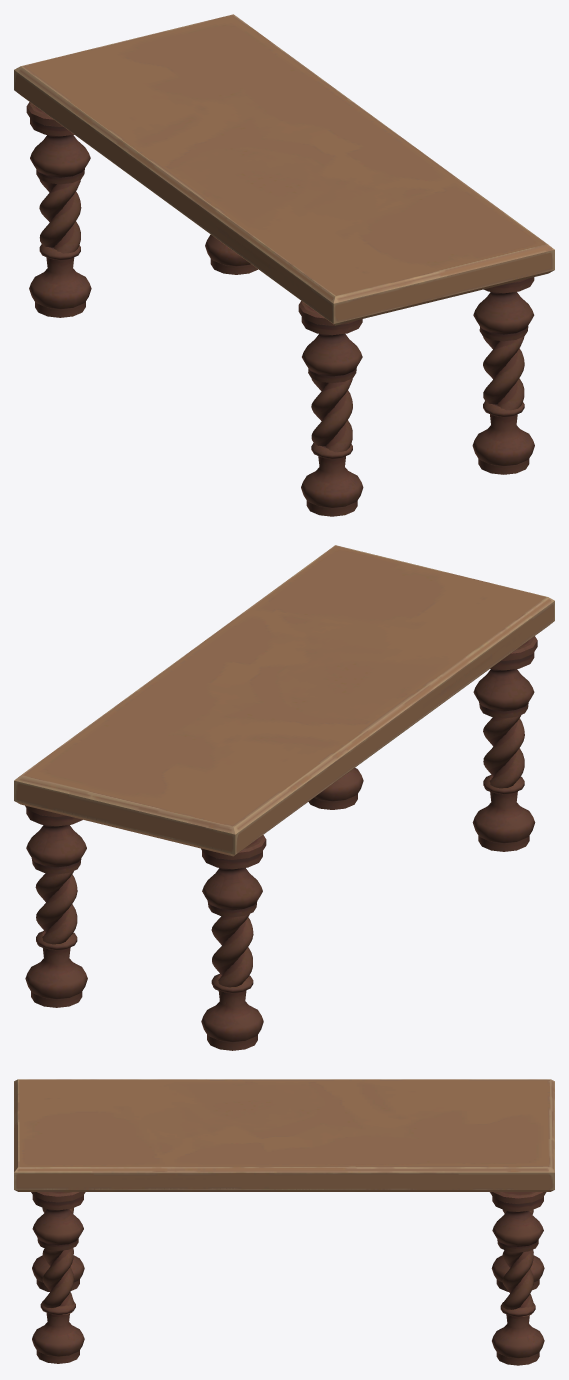
File: MiddleShelf.fbx
The picture shows the model from 3 angles, top to bottom: view 1: azimuth 30°, elevation 25°; view 2: azimuth 150°, elevation 25°; view 3: azimuth 270°, elevation 25°; orthographic projection. The views are drawn at different scales.
Parts seen in each view (by area): view 1: MiddleShelf, middleStickPart3, middleStickPart1 (1), middleStickPart1, middleStickPart1 (2), middleStickPart3.002, middleStickPart3.001, middleStickPart2.001, middleStickPart2, middleStickPart2.002, middleStickPart1 (3); view 2: MiddleShelf, middleStickPart3.002, middleStickPart1 (2), middleStickPart1 (3), middleStickPart1, middleStickPart3, middleStickPart3.003, middleStickPart2.003, middleStickPart2, middleStickPart2.002, middleStickPart1 (1); view 3: MiddleShelf, middleStickPart3.003, middleStickPart3.001, middleStickPart1 (1), middleStickPart1 (3), middleStickPart2.003, middleStickPart2.001, middleStickPart1, middleStickPart1 (2).
Boxes of the visible parts, <box> form: MiddleShelf: <box>14,14,554,325</box>; middleStickPart3: <box>298,301,362,383</box>; middleStickPart1 (1): <box>472,401,534,474</box>; middleStickPart1: <box>301,443,363,516</box>; middleStickPart1 (2): <box>29,244,91,317</box>; middleStickPart3.002: <box>26,102,90,184</box>; middleStickPart3.001: <box>473,277,534,341</box>; middleStickPart2.001: <box>483,336,524,410</box>; middleStickPart2: <box>311,378,352,452</box>; middleStickPart2.002: <box>39,179,81,253</box>; middleStickPart1 (3): <box>205,234,258,274</box>; MiddleShelf: <box>14,545,554,856</box>; middleStickPart3.002: <box>201,835,266,917</box>; middleStickPart1 (2): <box>201,974,263,1050</box>; middleStickPart1 (3): <box>25,931,87,1007</box>; middleStickPart1: <box>472,775,535,851</box>; middleStickPart3: <box>473,636,537,718</box>; middleStickPart3.003: <box>25,805,86,874</box>; middleStickPart2.003: <box>35,871,77,948</box>; middleStickPart2: <box>483,715,524,792</box>; middleStickPart2.002: <box>211,914,253,991</box>; middleStickPart1 (1): <box>308,768,363,809</box>; MiddleShelf: <box>14,1079,554,1191</box>; middleStickPart3.003: <box>490,1192,546,1252</box>; middleStickPart3.001: <box>31,1192,85,1250</box>; middleStickPart1 (1): <box>32,1300,84,1363</box>; middleStickPart1 (3): <box>492,1302,544,1365</box>; middleStickPart2.003: <box>502,1249,533,1316</box>; middleStickPart2.001: <box>42,1248,74,1314</box>; middleStickPart1: <box>32,1255,84,1291</box>; middleStickPart1 (2): <box>491,1255,544,1291</box>.
Bounding box in the file's own units: 423 × 400 × 1000.
Materials: 1 (1 with a texture image).
